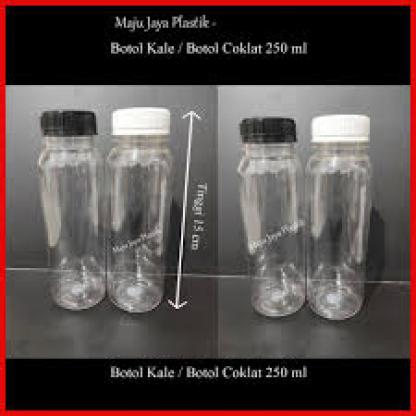Glass Bottle: (228, 113, 309, 323), (37, 106, 110, 315), (105, 106, 175, 315), (306, 111, 372, 326)
